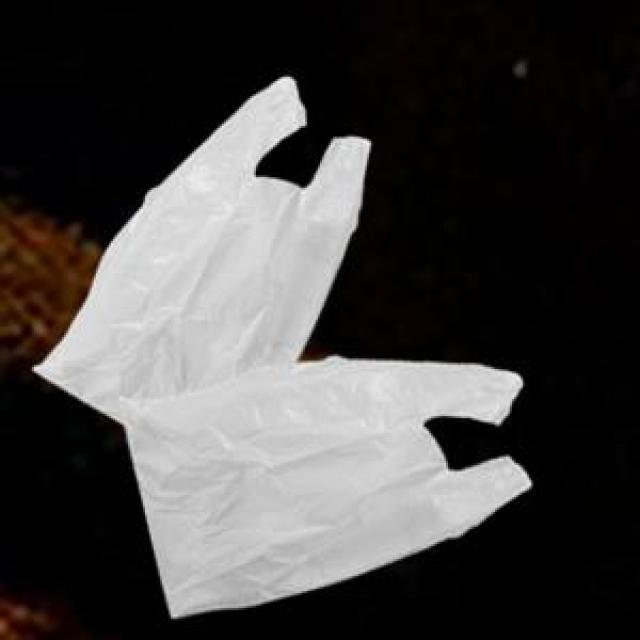waste: (36, 78, 530, 617)
